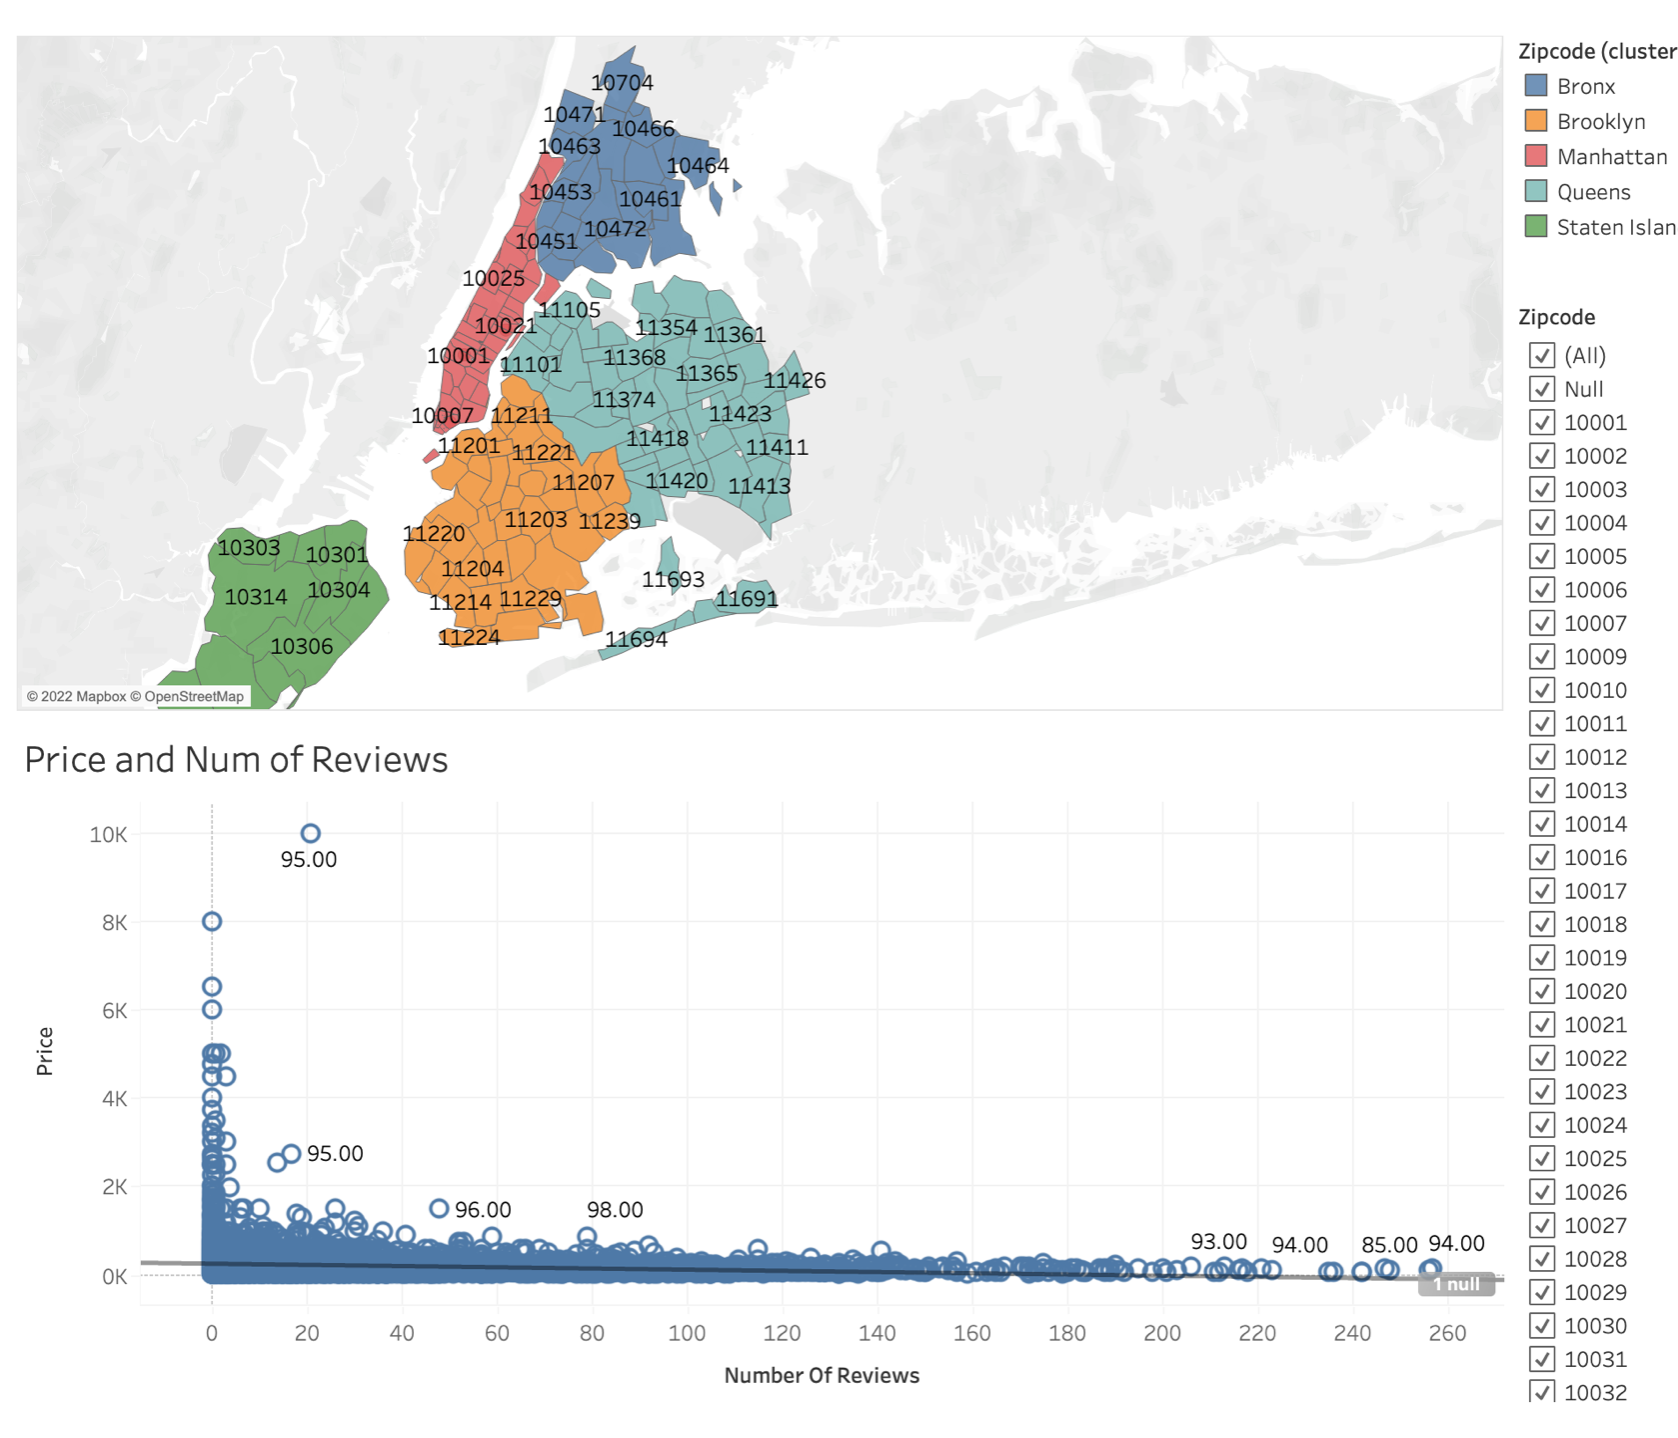

What the dashboard file says about the page in this screenshot:
{"tool":"tableau","page":{"name":"Question 3 Dashboard","canvas":[1000,1000],"units":"permille","ordinal":3},"visuals":[{"type":"worksheet","title":"Map of NYC (2)","mark":"Multipolygon","box":[8,10,853,490]},{"type":"legend","title":"Map of NYC (2)","param":"[federated.0fi0hti0gflwg81bsmdna14rxrs9].[Zipcode (clusters)]","box":[861,10,131,188.8]},{"type":"filter","title":"Price and Num of Reviews","param":"[federated.0fi0hti0gflwg81bsmdna14rxrs9].[none:Zipcode:ok]","box":[861,198.8,131,791.2]},{"type":"worksheet","title":"Price and Num of Reviews","mark":"Automatic","rows":["Price"],"cols":["Number Of Reviews"],"box":[8,500,853,490]}]}

Visuals, with their boxes on the dashboard's canvas, which has no fixed pixel size, in thousandths of its width and height (x1, y1, x2, y2). These are canvas units, not pixel positions in the 1678x1438 screenshot, which may show the page scaled, cropped or inside an application window:
"Map of NYC (2)" worksheet (Multipolygon marks): pyautogui.locateOnScreen(8, 10, 861, 500)
"Map of NYC (2)" legend: pyautogui.locateOnScreen(861, 10, 992, 199)
"Price and Num of Reviews" filter: pyautogui.locateOnScreen(861, 199, 992, 990)
"Price and Num of Reviews" worksheet: pyautogui.locateOnScreen(8, 500, 861, 990)
